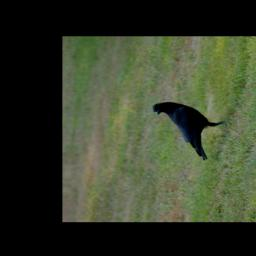Crow: (143, 101, 228, 162)
